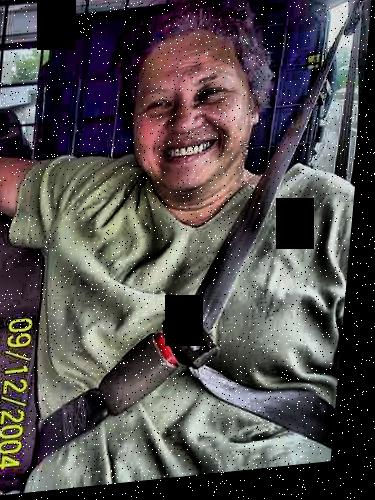seatbelt: (72, 42, 353, 457)
